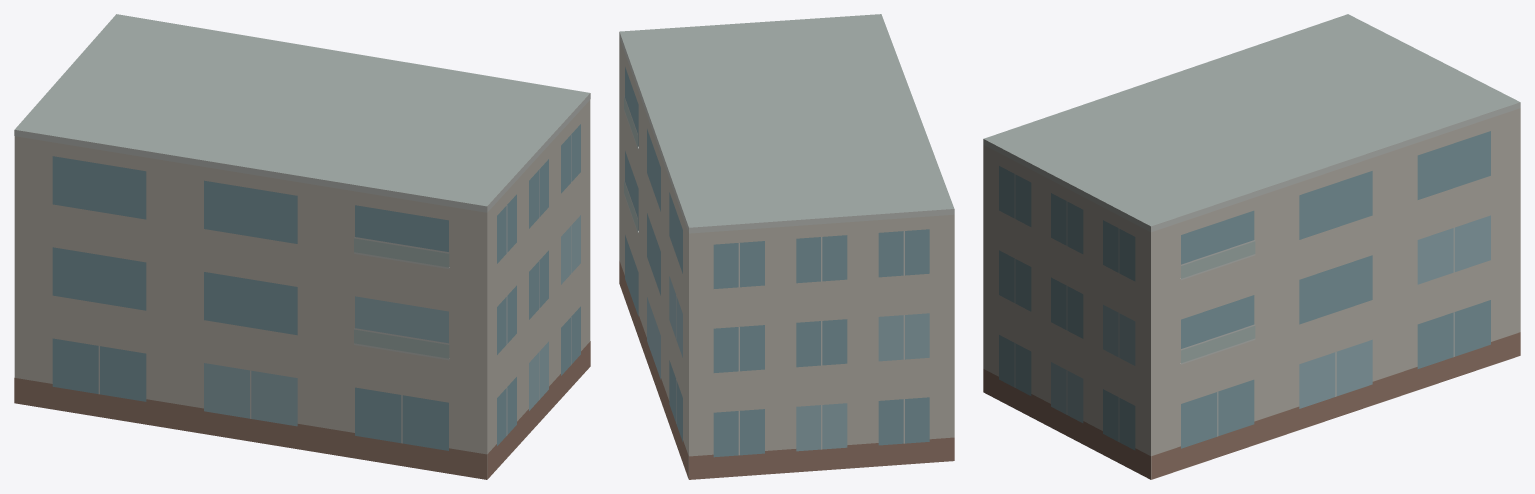
The model's file is survey-upis-32677449.glb.
The picture shows the model from 3 angles, left to right: view 1: azimuth 30°, elevation 25°; view 2: azimuth 150°, elevation 25°; view 3: azimuth 270°, elevation 25°; orthographic projection. The views are drawn at different scales.
Visible parts, largest first — view 1: survey-upis-32677449.tmp; view 2: survey-upis-32677449.tmp; view 3: survey-upis-32677449.tmp.
Boxes of the visible parts, x1,y1,x2,y2 form: survey-upis-32677449.tmp: (14, 14, 590, 479); survey-upis-32677449.tmp: (619, 14, 954, 479); survey-upis-32677449.tmp: (983, 14, 1520, 479).
Bounding box in the file's own units: 18.88 × 10.5 × 20.18.
